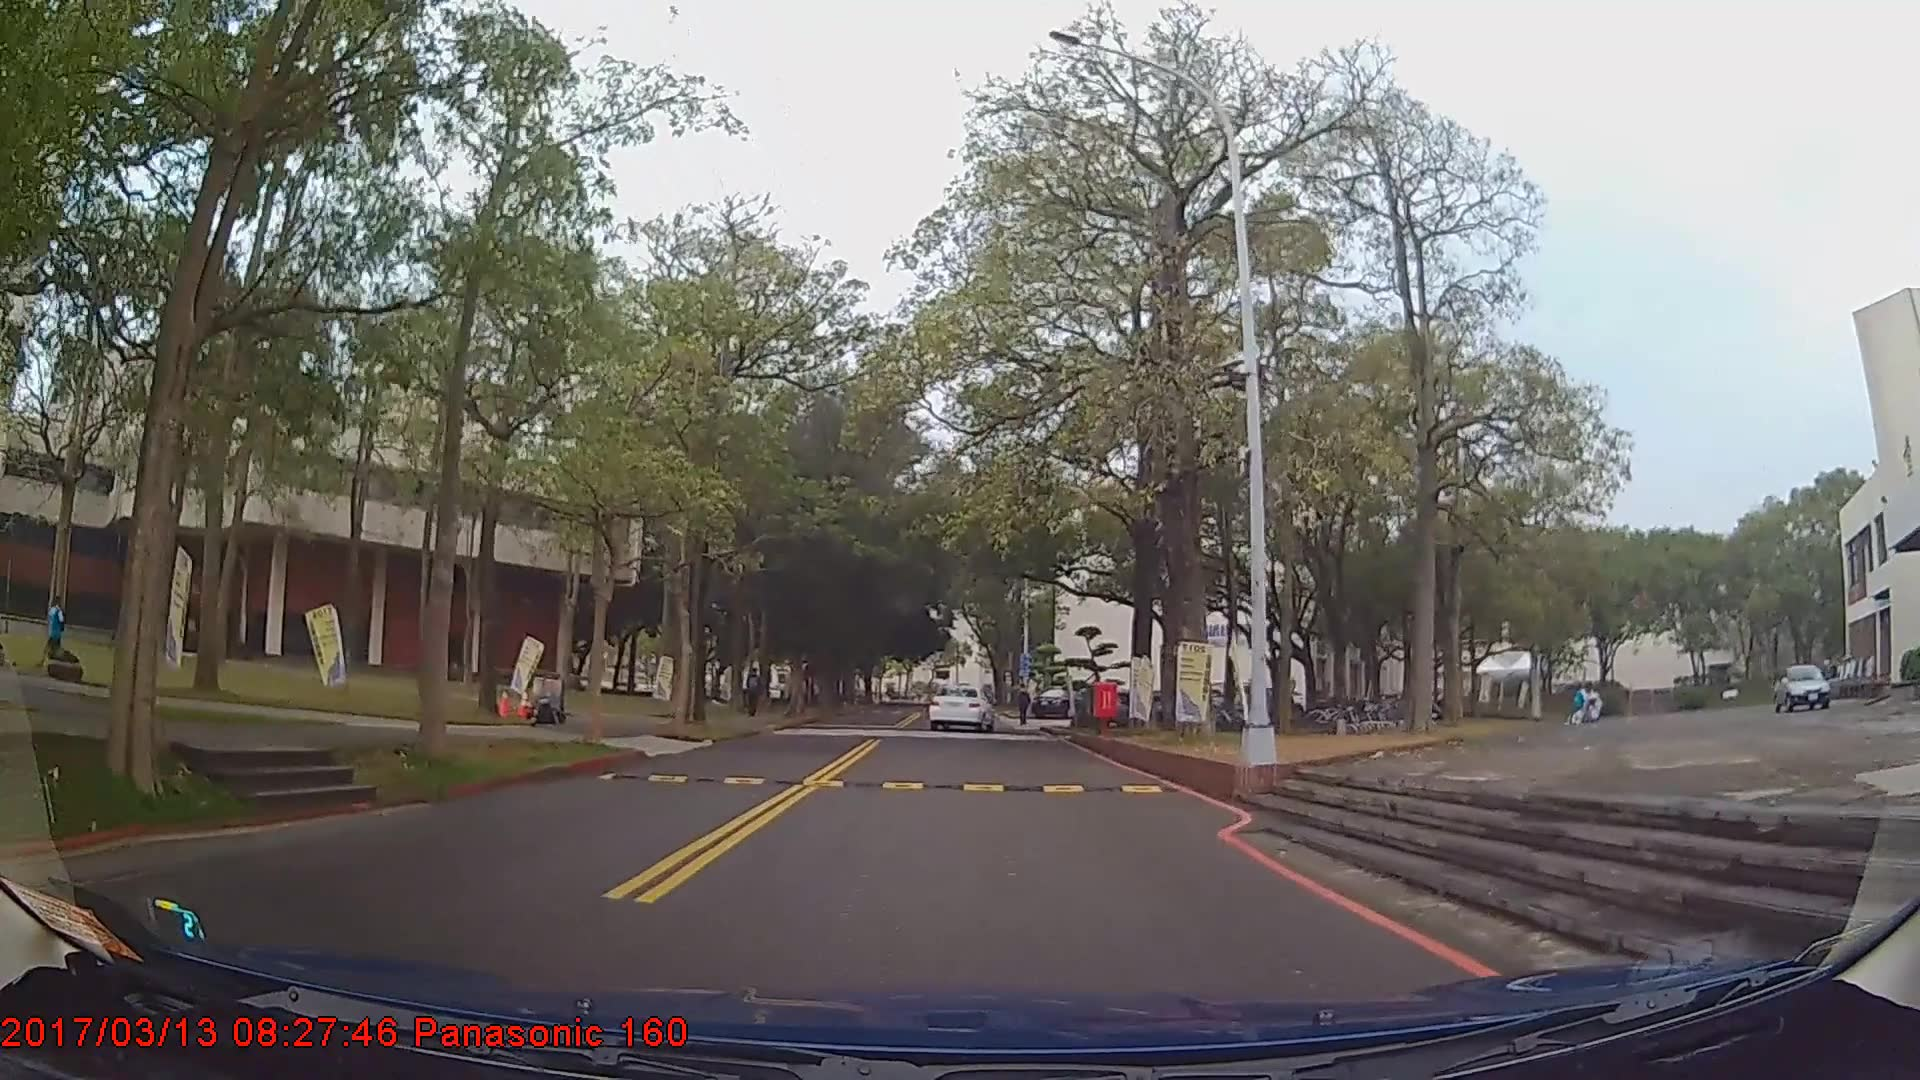pedestrian: (44, 597, 70, 675), (743, 667, 765, 718)
vehicle: (1769, 660, 1842, 713), (928, 683, 994, 732)
